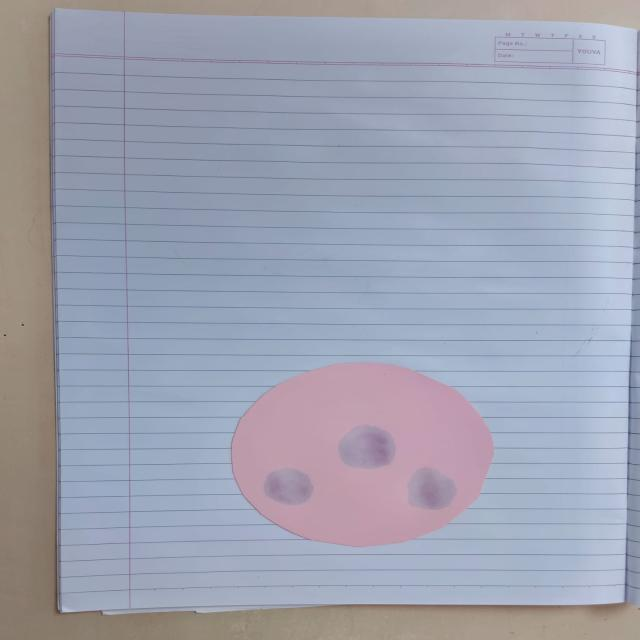BlueColor: (339, 425, 395, 469), (408, 467, 457, 510), (264, 468, 313, 505)
